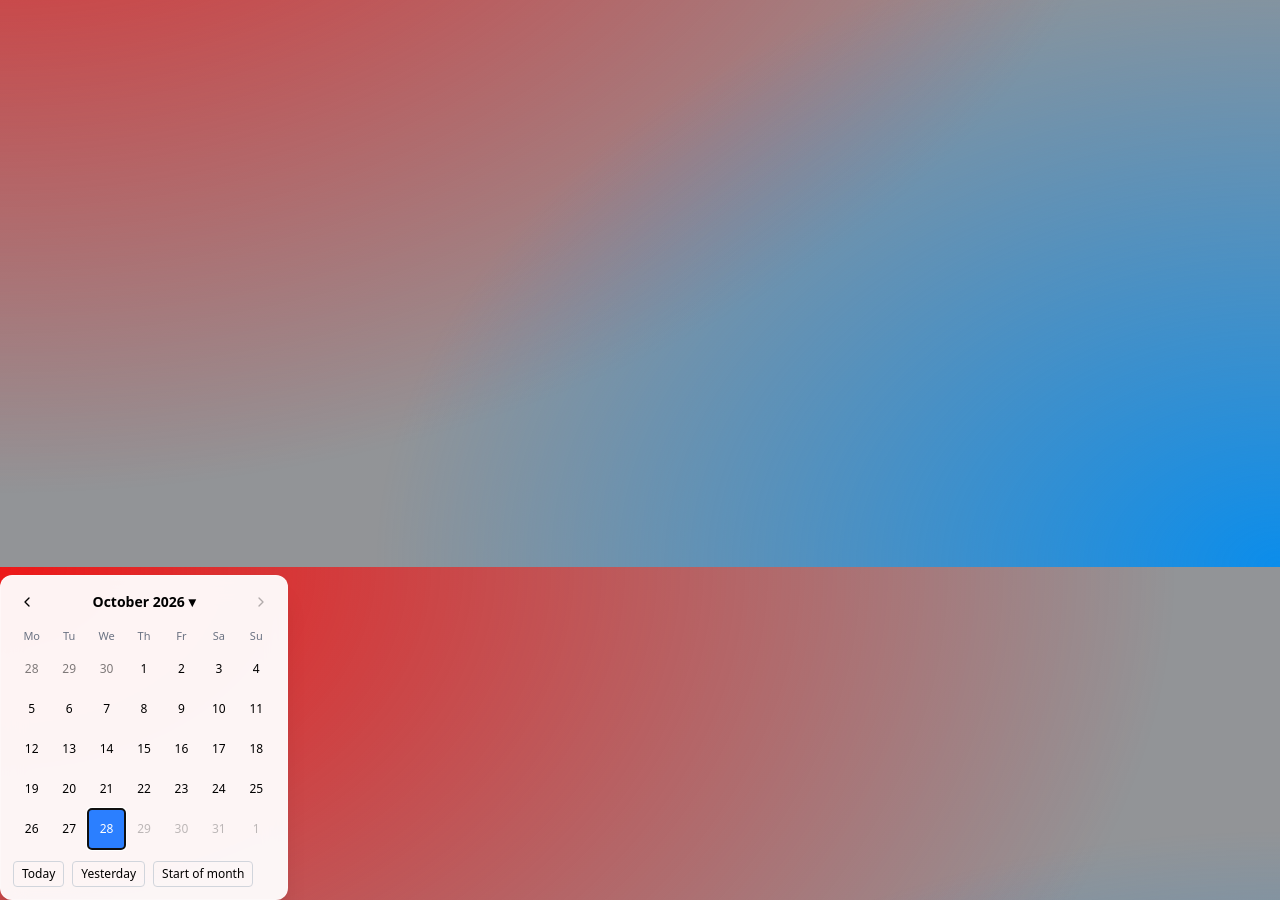
Test: DatePickerPopover › disables months after the current one
The image size is (1280, 900).
(page scrolled)
Click the button with aria-label "Choose month and year" at (144, 602), box [84,588,203,616]
(page scrolled)
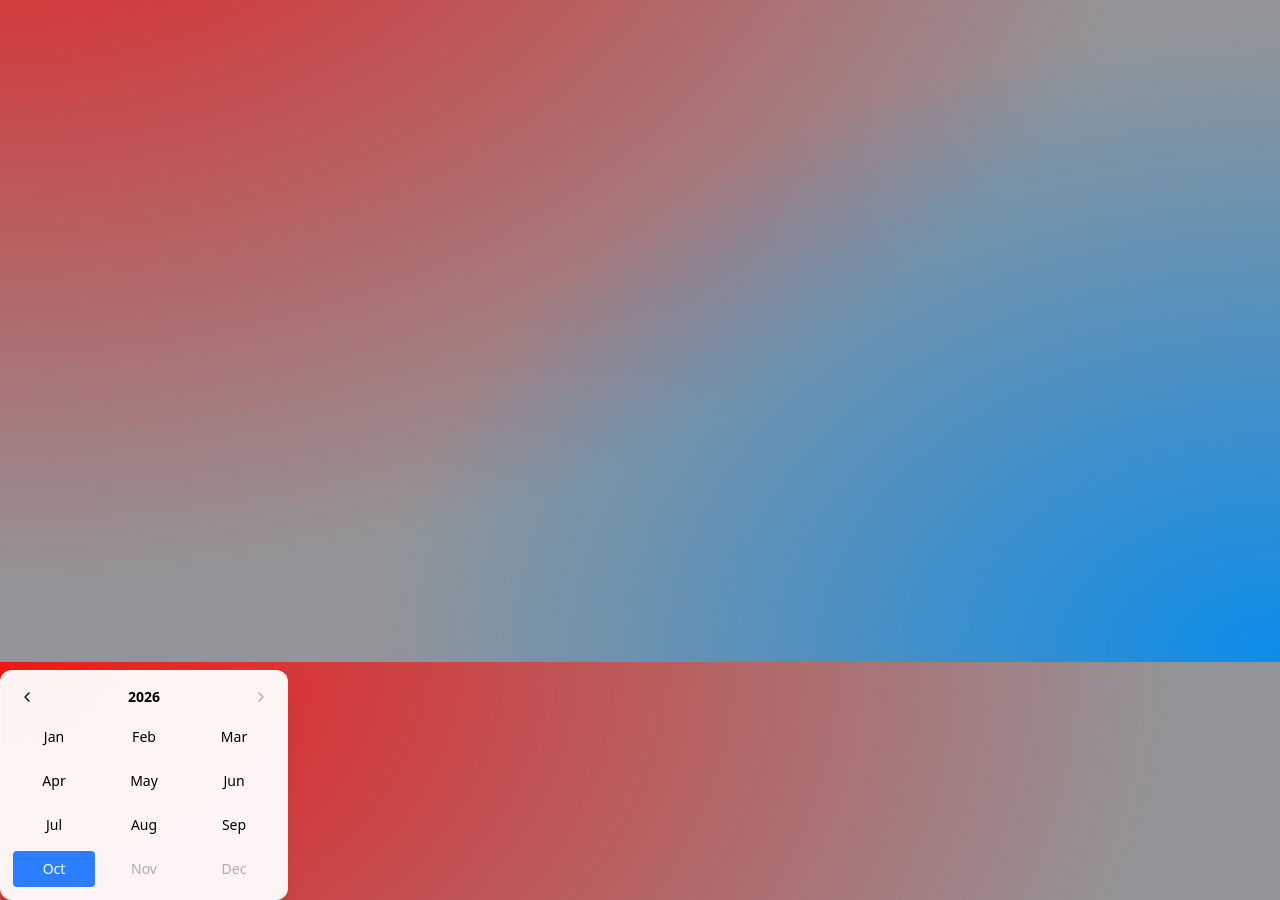
expect the button "Oct" is enabled: met, box [13,851,95,887]
expect the button "Nov" is disabled: met, box [103,851,185,887]
